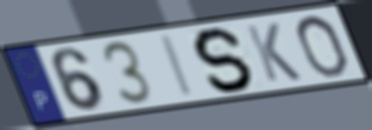3: (102, 39, 155, 107)
6: (49, 45, 107, 113)
I: (160, 33, 197, 100)
K: (243, 21, 305, 84)
O: (293, 13, 351, 80)
S: (192, 25, 256, 94)
